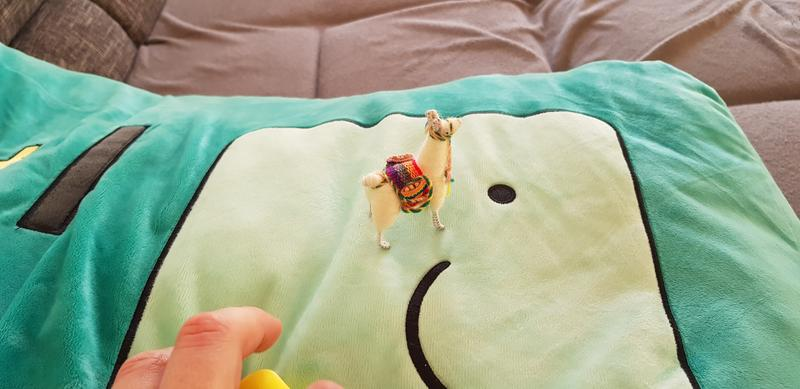Horse-Toy: (348, 106, 471, 258)
